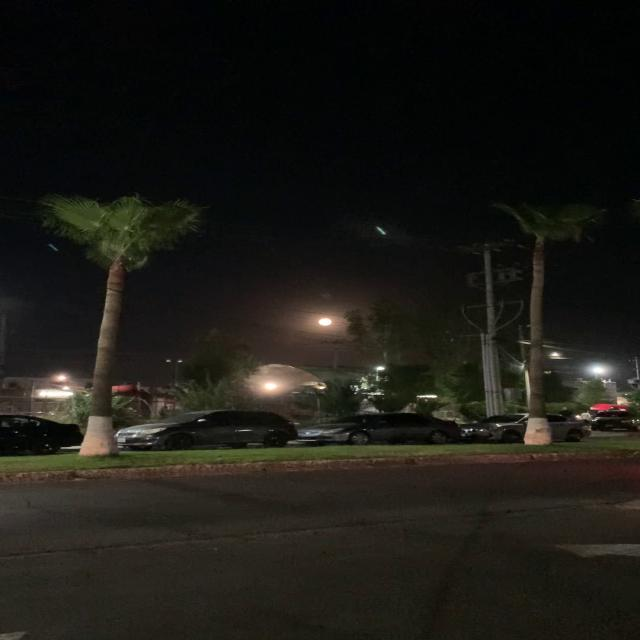moon: (316, 316, 336, 329)
